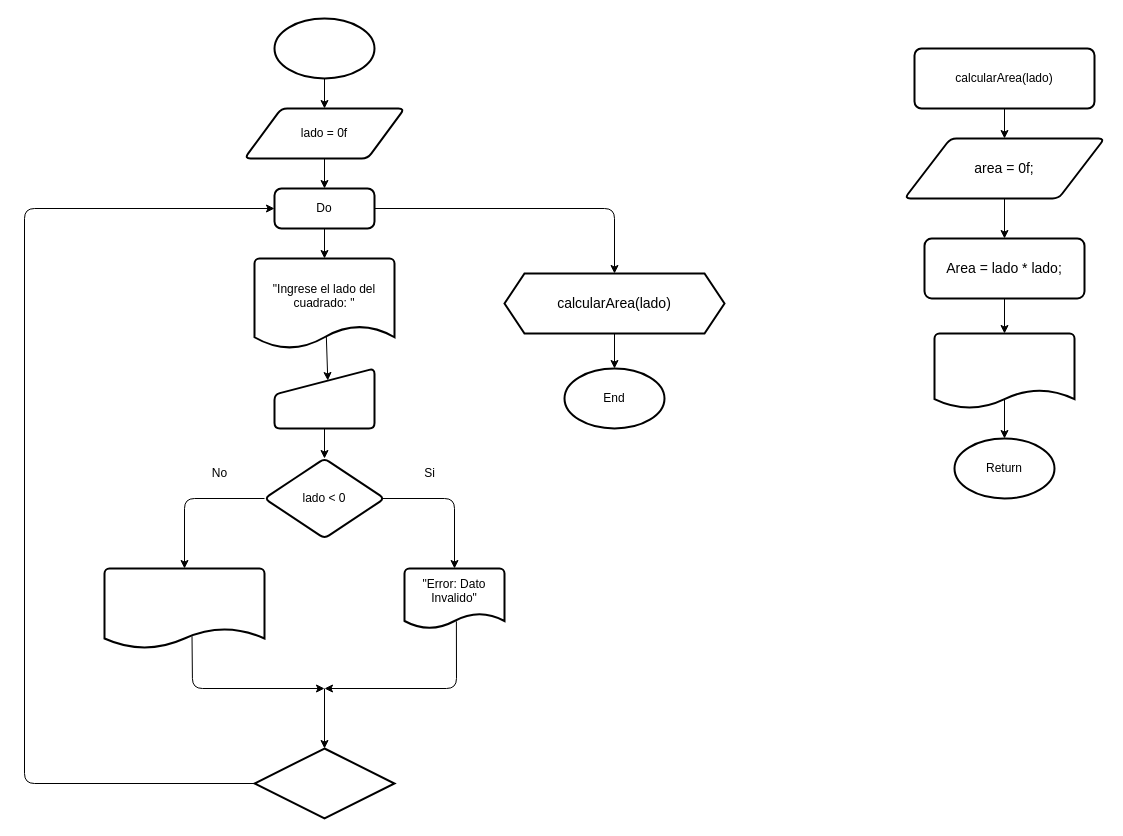
Image size: 1123x836. Some labels were removed from this diagram. Each missing label, with the centre of its shape:
"El area es: " + area;: (1004,370)
"Lado Ingresado: "+ lado;: (184,608)
lado: (324,398)
lado < 0;: (324,783)
Start: (324,48)
